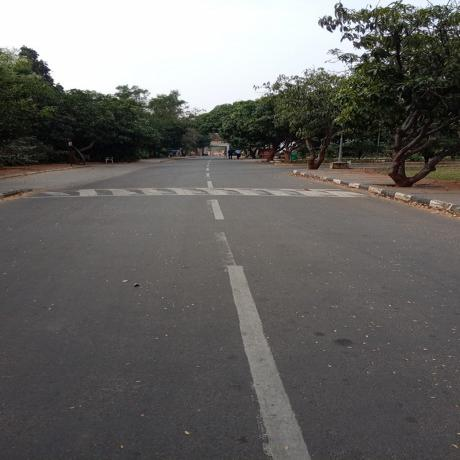Speed Bump: (29, 187, 362, 198)
